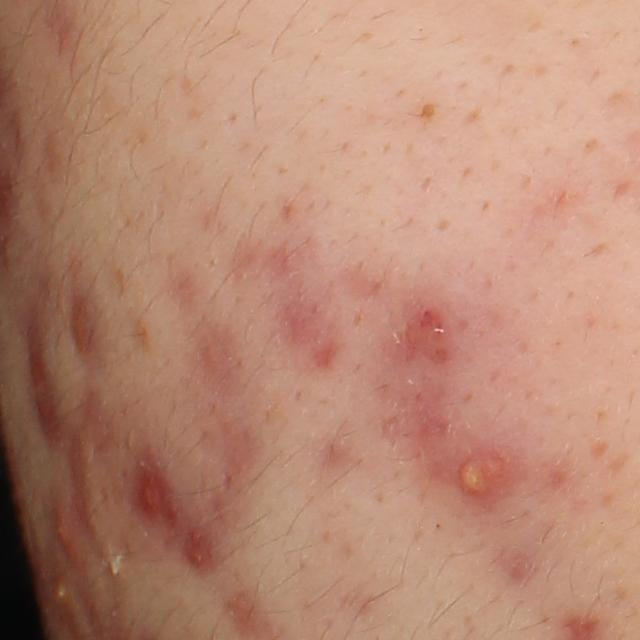atrophic_scar: (406, 306, 458, 373), (180, 529, 220, 583)
comedo: (415, 98, 440, 126)
papule: (133, 449, 187, 539), (50, 492, 93, 566)
pustule: (454, 444, 527, 505), (49, 574, 75, 611)
